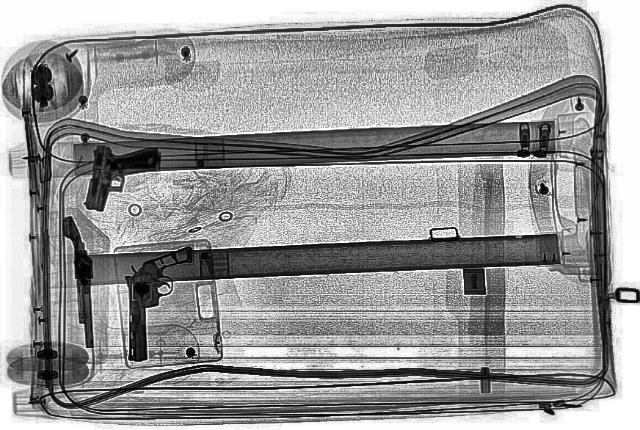Gun: (115, 246, 202, 366), (81, 142, 163, 214), (62, 218, 100, 357)
